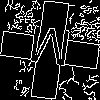M: (25, 25, 73, 76)
